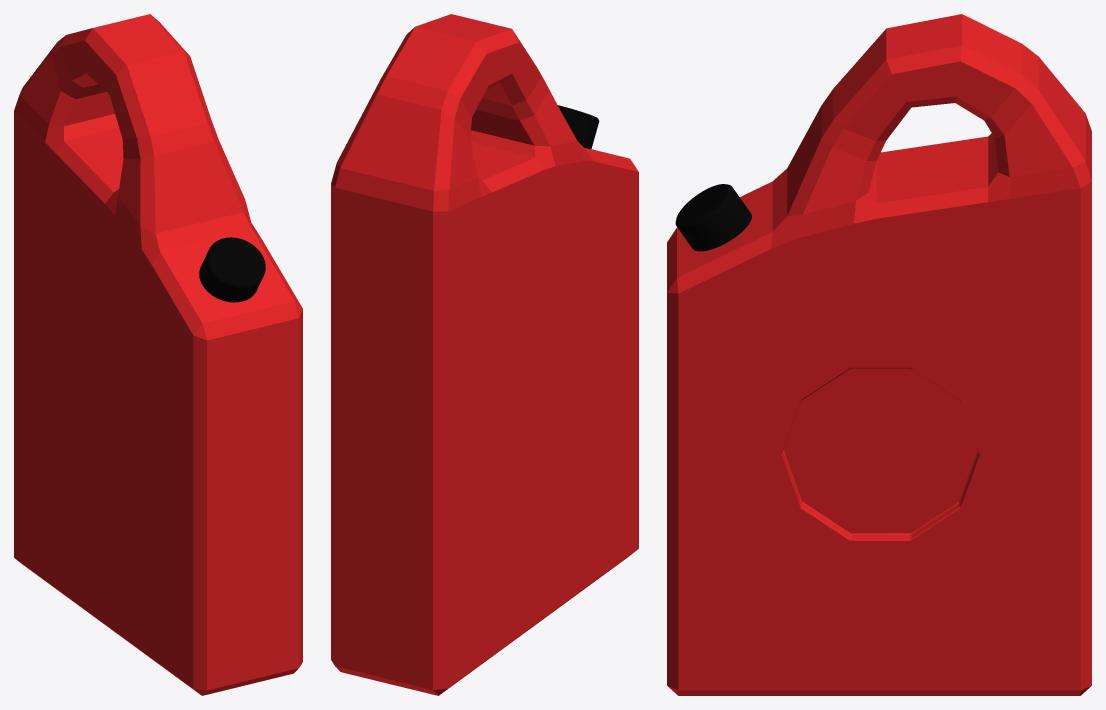
File: canistra.fbx
3 views of the same model, side by side, from view 1: azimuth 30°, elevation 25°; view 2: azimuth 150°, elevation 25°; view 3: azimuth 270°, elevation 25° (orthographic). The views are drawn at different scales.
Parts seen in each view (by area): view 1: Cube, Cylinder; view 2: Cube, Cylinder; view 3: Cube, Cylinder.
Part boxes in pixels (box(x1,y1,x2,y2)): Cube: box(14, 14, 302, 695); Cylinder: box(199, 237, 265, 302); Cube: box(331, 14, 638, 695); Cylinder: box(557, 105, 599, 149); Cube: box(667, 14, 1091, 695); Cylinder: box(675, 184, 751, 251).
Size of the model in its own units: 66.84 by 333 by 200.
